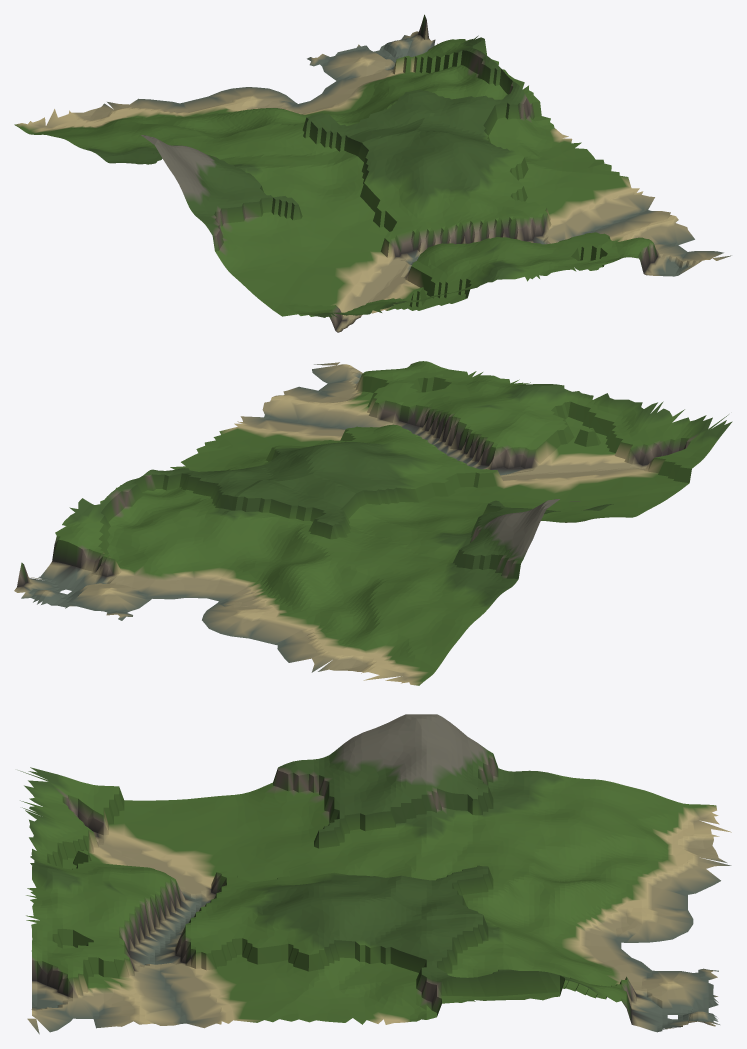
The model's file is coast_tile_x0z2_lod1.glb.
The picture shows the model from 3 angles, top to bottom: view 1: azimuth 30°, elevation 25°; view 2: azimuth 150°, elevation 25°; view 3: azimuth 270°, elevation 25°; orthographic projection. The views are drawn at different scales.
Parts seen in each view (by area): view 1: geometry_0; view 2: geometry_0; view 3: geometry_0.
Part boxes in pixels (box(x1,y1,x2,y2)): geometry_0: box(14, 14, 731, 332); geometry_0: box(14, 361, 732, 685); geometry_0: box(18, 714, 731, 1034).
Size of the model in its own units: 615 by 134 by 842.
